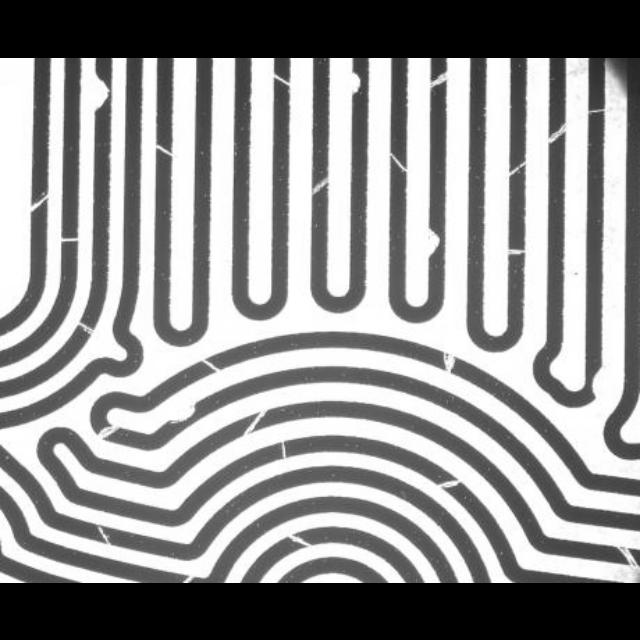break: (89, 512, 121, 558), (150, 128, 188, 162), (276, 524, 316, 554), (261, 64, 299, 94), (614, 534, 640, 574), (438, 342, 462, 382), (74, 308, 100, 344), (381, 151, 413, 179), (53, 224, 83, 252), (304, 174, 338, 198), (274, 433, 298, 467), (14, 195, 54, 215), (505, 241, 535, 267), (434, 469, 466, 493), (90, 421, 124, 443), (418, 72, 464, 88), (500, 160, 534, 180), (539, 125, 573, 145), (244, 405, 266, 435), (582, 102, 616, 120), (202, 352, 222, 376), (176, 562, 196, 582), (634, 474, 640, 504)
over-etching: (580, 354, 608, 406), (90, 64, 114, 118), (344, 61, 371, 106), (164, 401, 202, 431), (420, 220, 444, 266)
